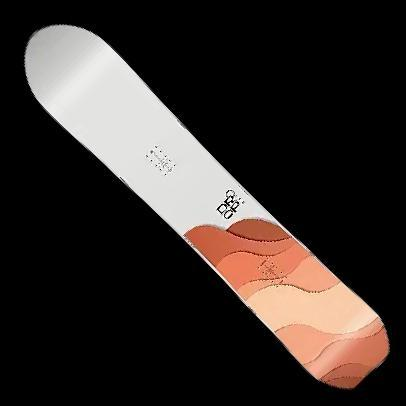Snowboard: (16, 14, 401, 398)
